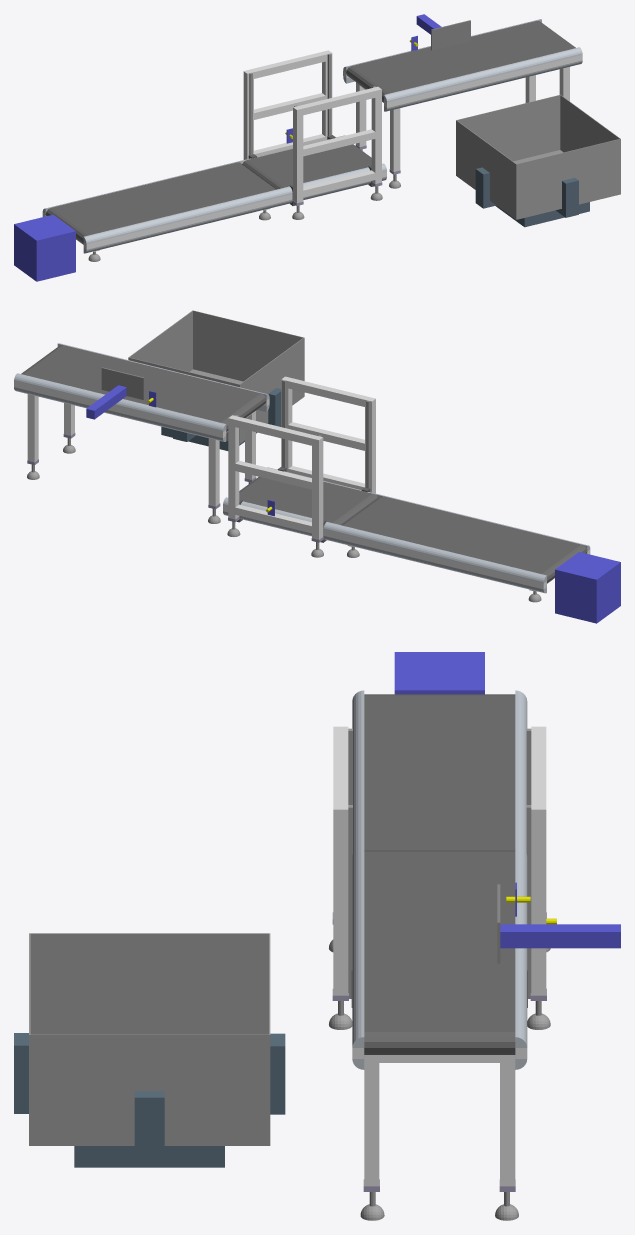
File: PusherConveyor8.fbx
3 views of the same model, one above another, from view 1: azimuth 30°, elevation 25°; view 2: azimuth 150°, elevation 25°; view 3: azimuth 270°, elevation 25° (orthographic). The views are drawn at different scales.
Parts seen in each view (by area): view 1: M40, M4, M79, M78, M1, M81, M113, M80, M54, M20, M42, M8 (+21 smaller); view 2: M40, M4, M79, M1, M113, M81, M80, M51, M17, M41, M7, M86 (+19 smaller); view 3: M4, M80, M81, M40, M1, M2, M85, M6, M69, M87, M20, M17 (+11 smaller).
Part boxes in pixels (x1,y1,x2,y2): M40: (51,162,273,235); M4: (352,21,573,93); M79: (517,139,620,218); M78: (457,95,560,161); M1: (14,214,75,281); M81: (456,120,516,218); M113: (247,144,371,187); M80: (560,94,620,193); M54: (83,189,282,244); M20: (384,47,582,102); M42: (83,197,282,249); M8: (384,55,582,107); M40: (343,496,581,573); M4: (23,345,260,422); M79: (193,310,303,381); M1: (555,552,620,623); M113: (239,477,372,522); M81: (239,337,304,443); M80: (128,310,192,371); M51: (334,524,546,583); M17: (14,373,226,432); M41: (334,533,546,589); M7: (14,381,226,437); M86: (312,435,323,539); M4: (364,851,515,1031); M80: (29,1034,270,1144); M81: (29,933,269,1034); M40: (364,695,515,850); M1: (394,652,484,694); M2: (364,1032,515,1054); M85: (333,803,348,995); M6: (500,924,620,948); M69: (74,1146,224,1167); M87: (531,803,546,995); M20: (352,846,363,1047); M17: (515,846,527,1047).
Bounding box in the file's own units: 4092 × 950 × 2012.
